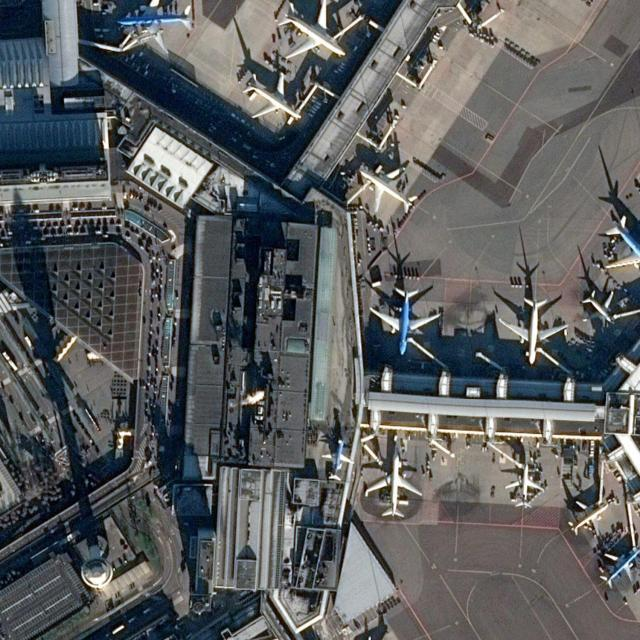Aircraft: (368, 285, 440, 354), (498, 296, 568, 365), (275, 0, 347, 60), (115, 0, 193, 52), (364, 452, 422, 518), (241, 70, 302, 121), (356, 163, 418, 213), (602, 213, 640, 279), (598, 544, 640, 589), (504, 462, 544, 508), (566, 497, 610, 535), (320, 438, 354, 480), (580, 289, 617, 326)
